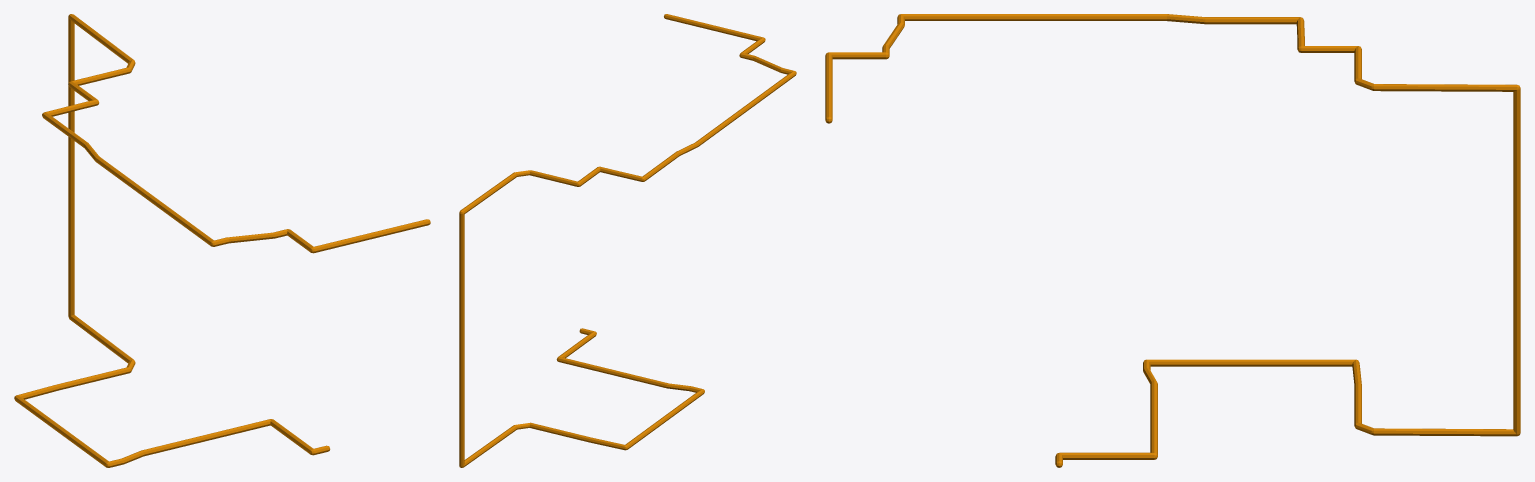
The picture shows the model from 3 angles, left to right: view 1: azimuth 30°, elevation 25°; view 2: azimuth 150°, elevation 25°; view 3: azimuth 270°, elevation 25°; orthographic projection. The views are drawn at different scales.
Size of the model in its own units: 658 by 1020 by 1830.
